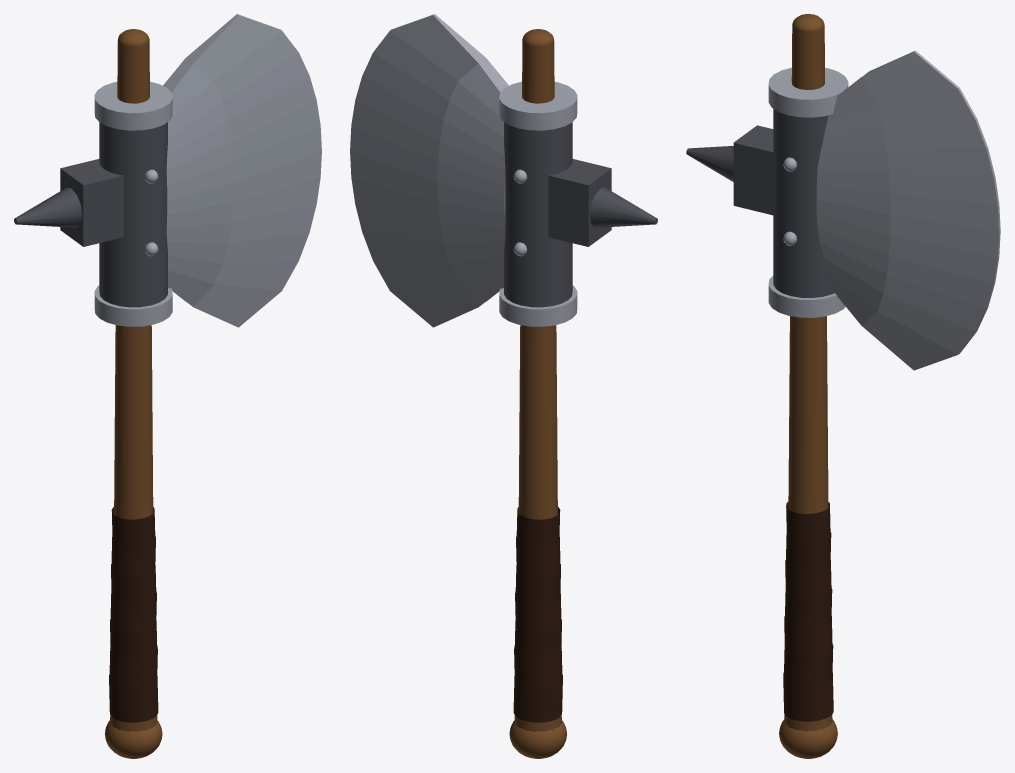
Rendered from axe.obj.
The picture shows the model from 3 angles, left to right: view 1: azimuth 30°, elevation 25°; view 2: azimuth 150°, elevation 25°; view 3: azimuth 330°, elevation 25°; orthographic projection. The views are drawn at different scales.
Visible parts, largest first — view 1: axe; view 2: axe; view 3: axe.
Boxes of the visible parts, bbox=[...] form: axe: bbox=[14, 14, 321, 758]; axe: bbox=[350, 14, 657, 758]; axe: bbox=[686, 14, 1000, 758].
Size of the model in its own units: 0.44 by 0.997 by 0.1051.
